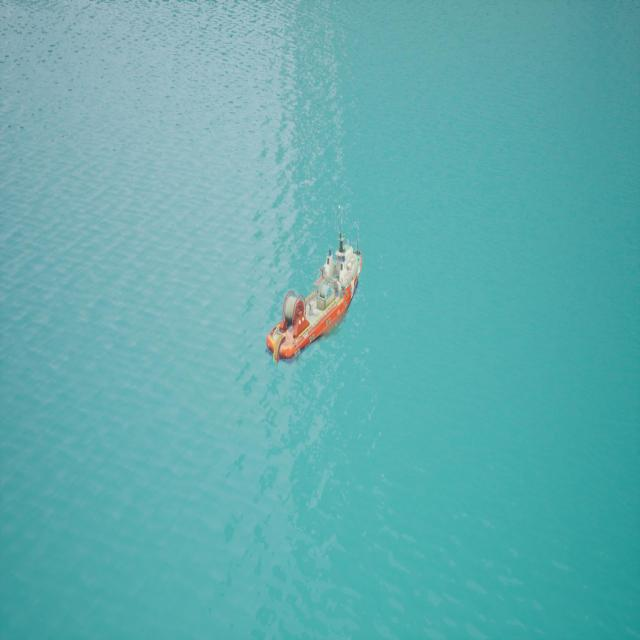tug boat: (282, 244, 363, 363)
